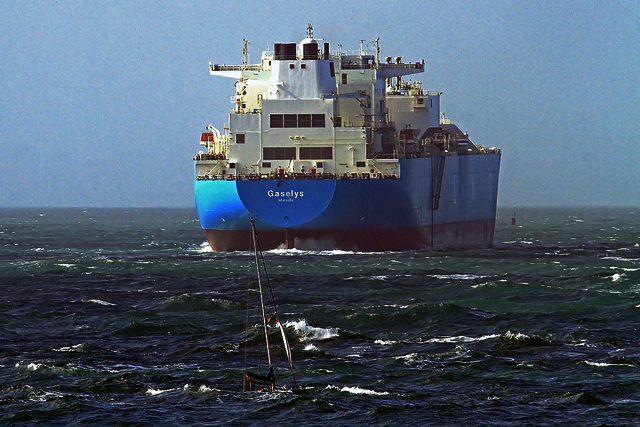LNG_ship: (192, 31, 502, 242)
